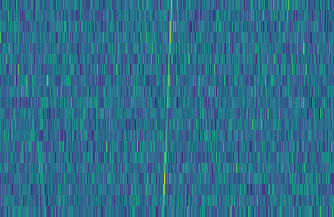signal: (158, 0, 175, 217)
